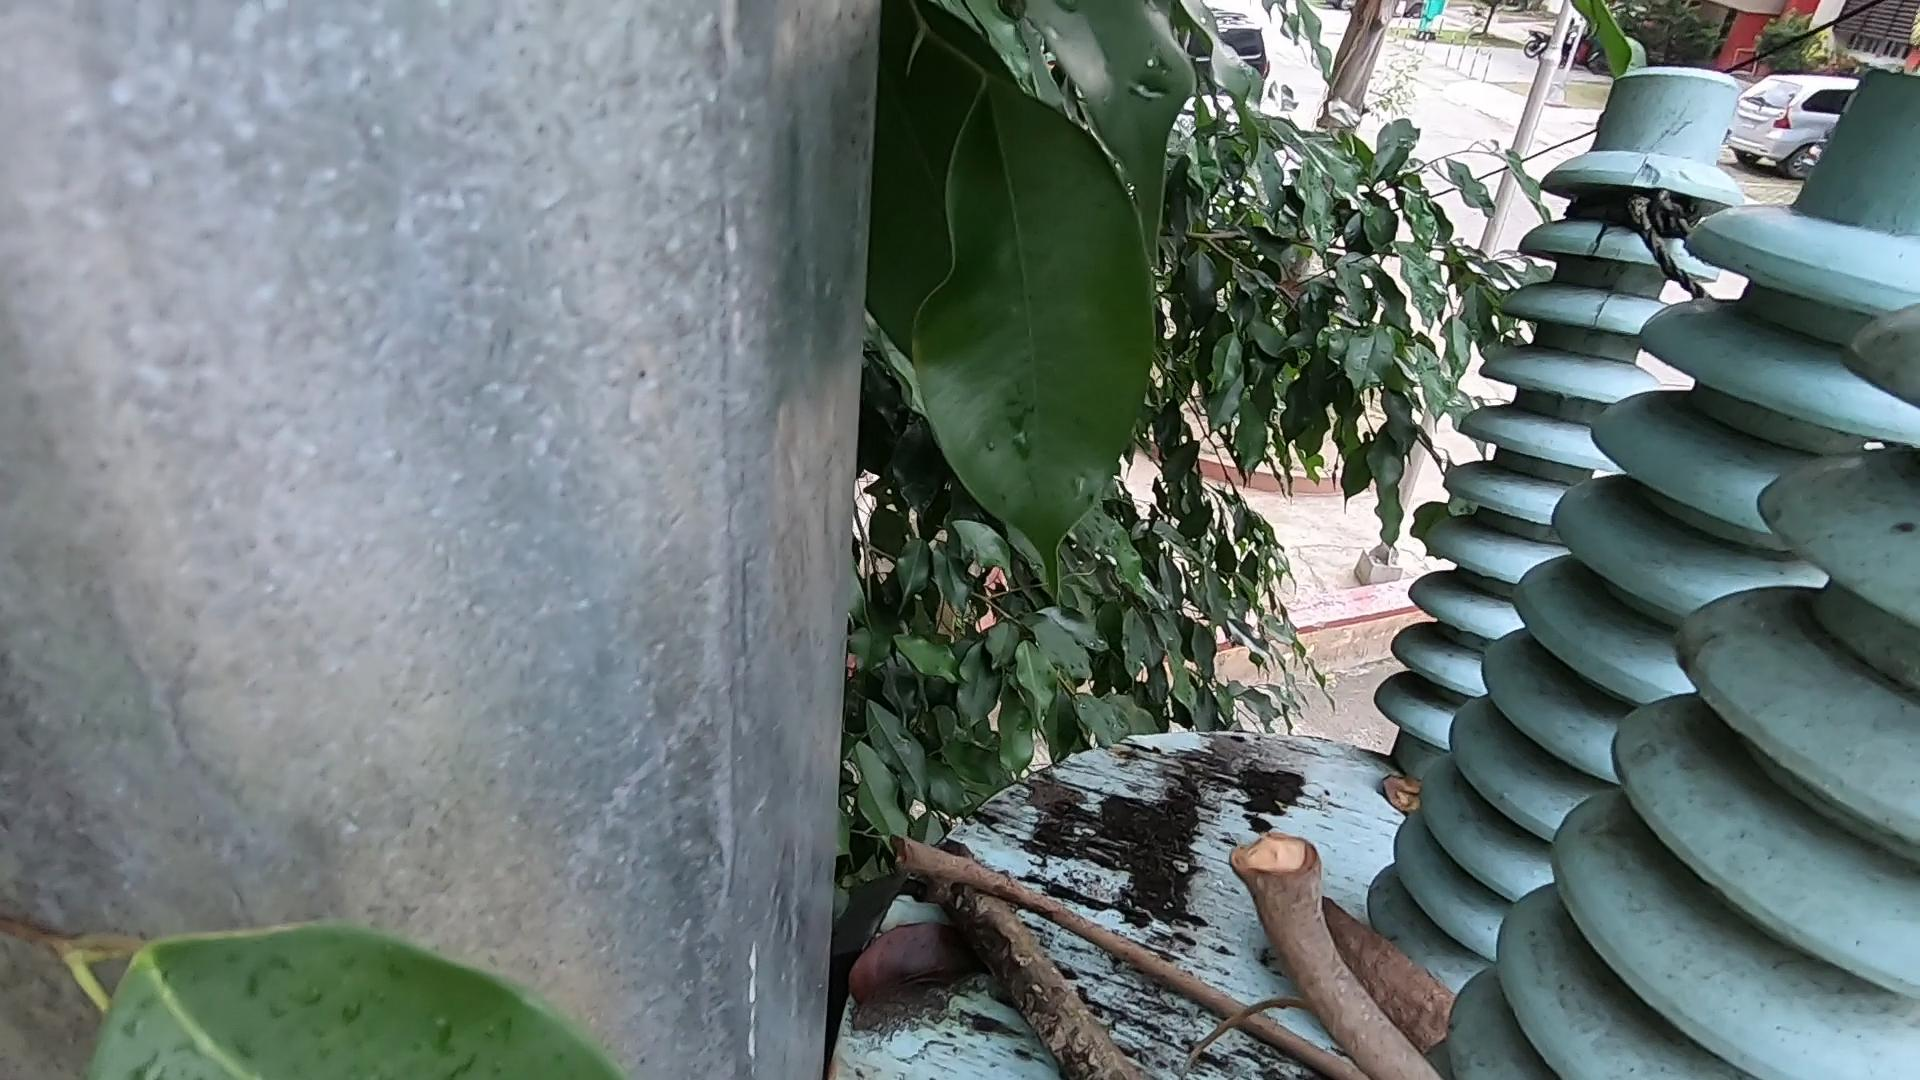branch with leaves: (934, 833, 1127, 1080)
leaf: (837, 913, 1001, 1007), (1395, 765, 1449, 848)
mahogany fruit: (1288, 853, 1510, 1065)
tree branch: (881, 832, 1342, 1076), (1249, 829, 1422, 1077)
